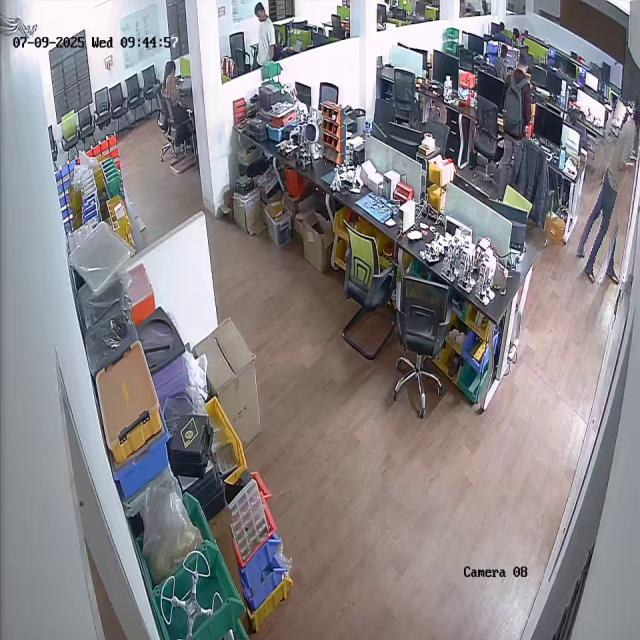person: (582, 98, 640, 285)
